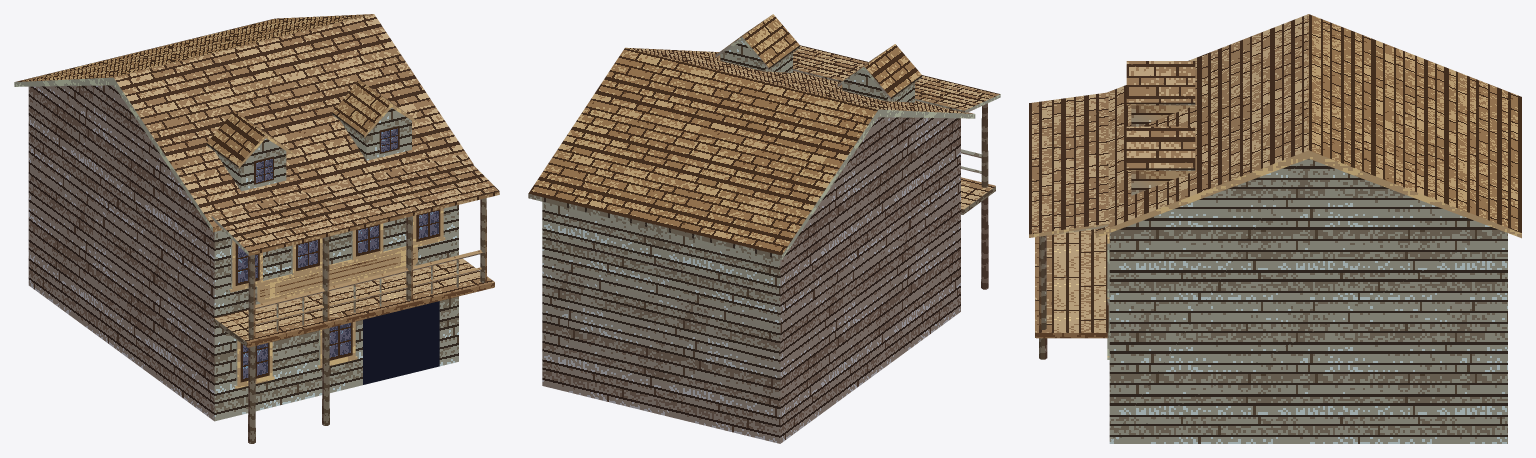
The model's file is wtown.hotel__entry.glb.
3 renders of one model, left to right at view 1: azimuth 30°, elevation 25°; view 2: azimuth 150°, elevation 25°; view 3: azimuth 270°, elevation 25°, orthographic. The views are drawn at different scales.
Parts seen in each view (by area): view 1: kit_body, kit_roof, kit_veranda, kit_card_panes, kit_veranda_roof, kit_dormer_roofs, kit_dormers, kit_windows, kit_trim; view 2: kit_body, kit_roof, kit_dormer_roofs, kit_veranda_roof, kit_veranda, kit_dormers; view 3: kit_body, kit_roof, kit_veranda_roof, kit_veranda, kit_dormer_roofs, kit_dormers.
Part boxes in pixels (box(x1,y1,x2,y2)): kit_body: box(28, 85, 458, 421); kit_roof: box(14, 14, 473, 232); kit_veranda: box(214, 198, 494, 443); kit_card_panes: box(235, 126, 440, 384); kit_veranda_roof: box(211, 154, 499, 255); kit_dormer_roofs: box(206, 80, 418, 168); kit_dormers: box(215, 108, 411, 191); kit_windows: box(229, 208, 445, 388); kit_trim: box(256, 246, 417, 303); kit_body: box(542, 117, 960, 443); kit_roof: box(528, 47, 975, 259); kit_dormer_roofs: box(715, 14, 921, 99); kit_veranda_roof: box(793, 45, 1000, 112); kit_veranda: box(961, 103, 995, 289); kit_dormers: box(720, 41, 914, 102); kit_body: box(1109, 158, 1507, 443); kit_roof: box(1095, 14, 1521, 238); kit_veranda_roof: box(1029, 92, 1108, 237); kit_veranda: box(1035, 229, 1108, 359); kit_dormer_roofs: box(1126, 61, 1195, 170); kit_dormers: box(1131, 105, 1194, 195).
Size of the model in its own units: 8.1 by 8.25 by 12.37.
Materials: 10 (10 with a texture image).
